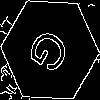G: (25, 25, 79, 83)
